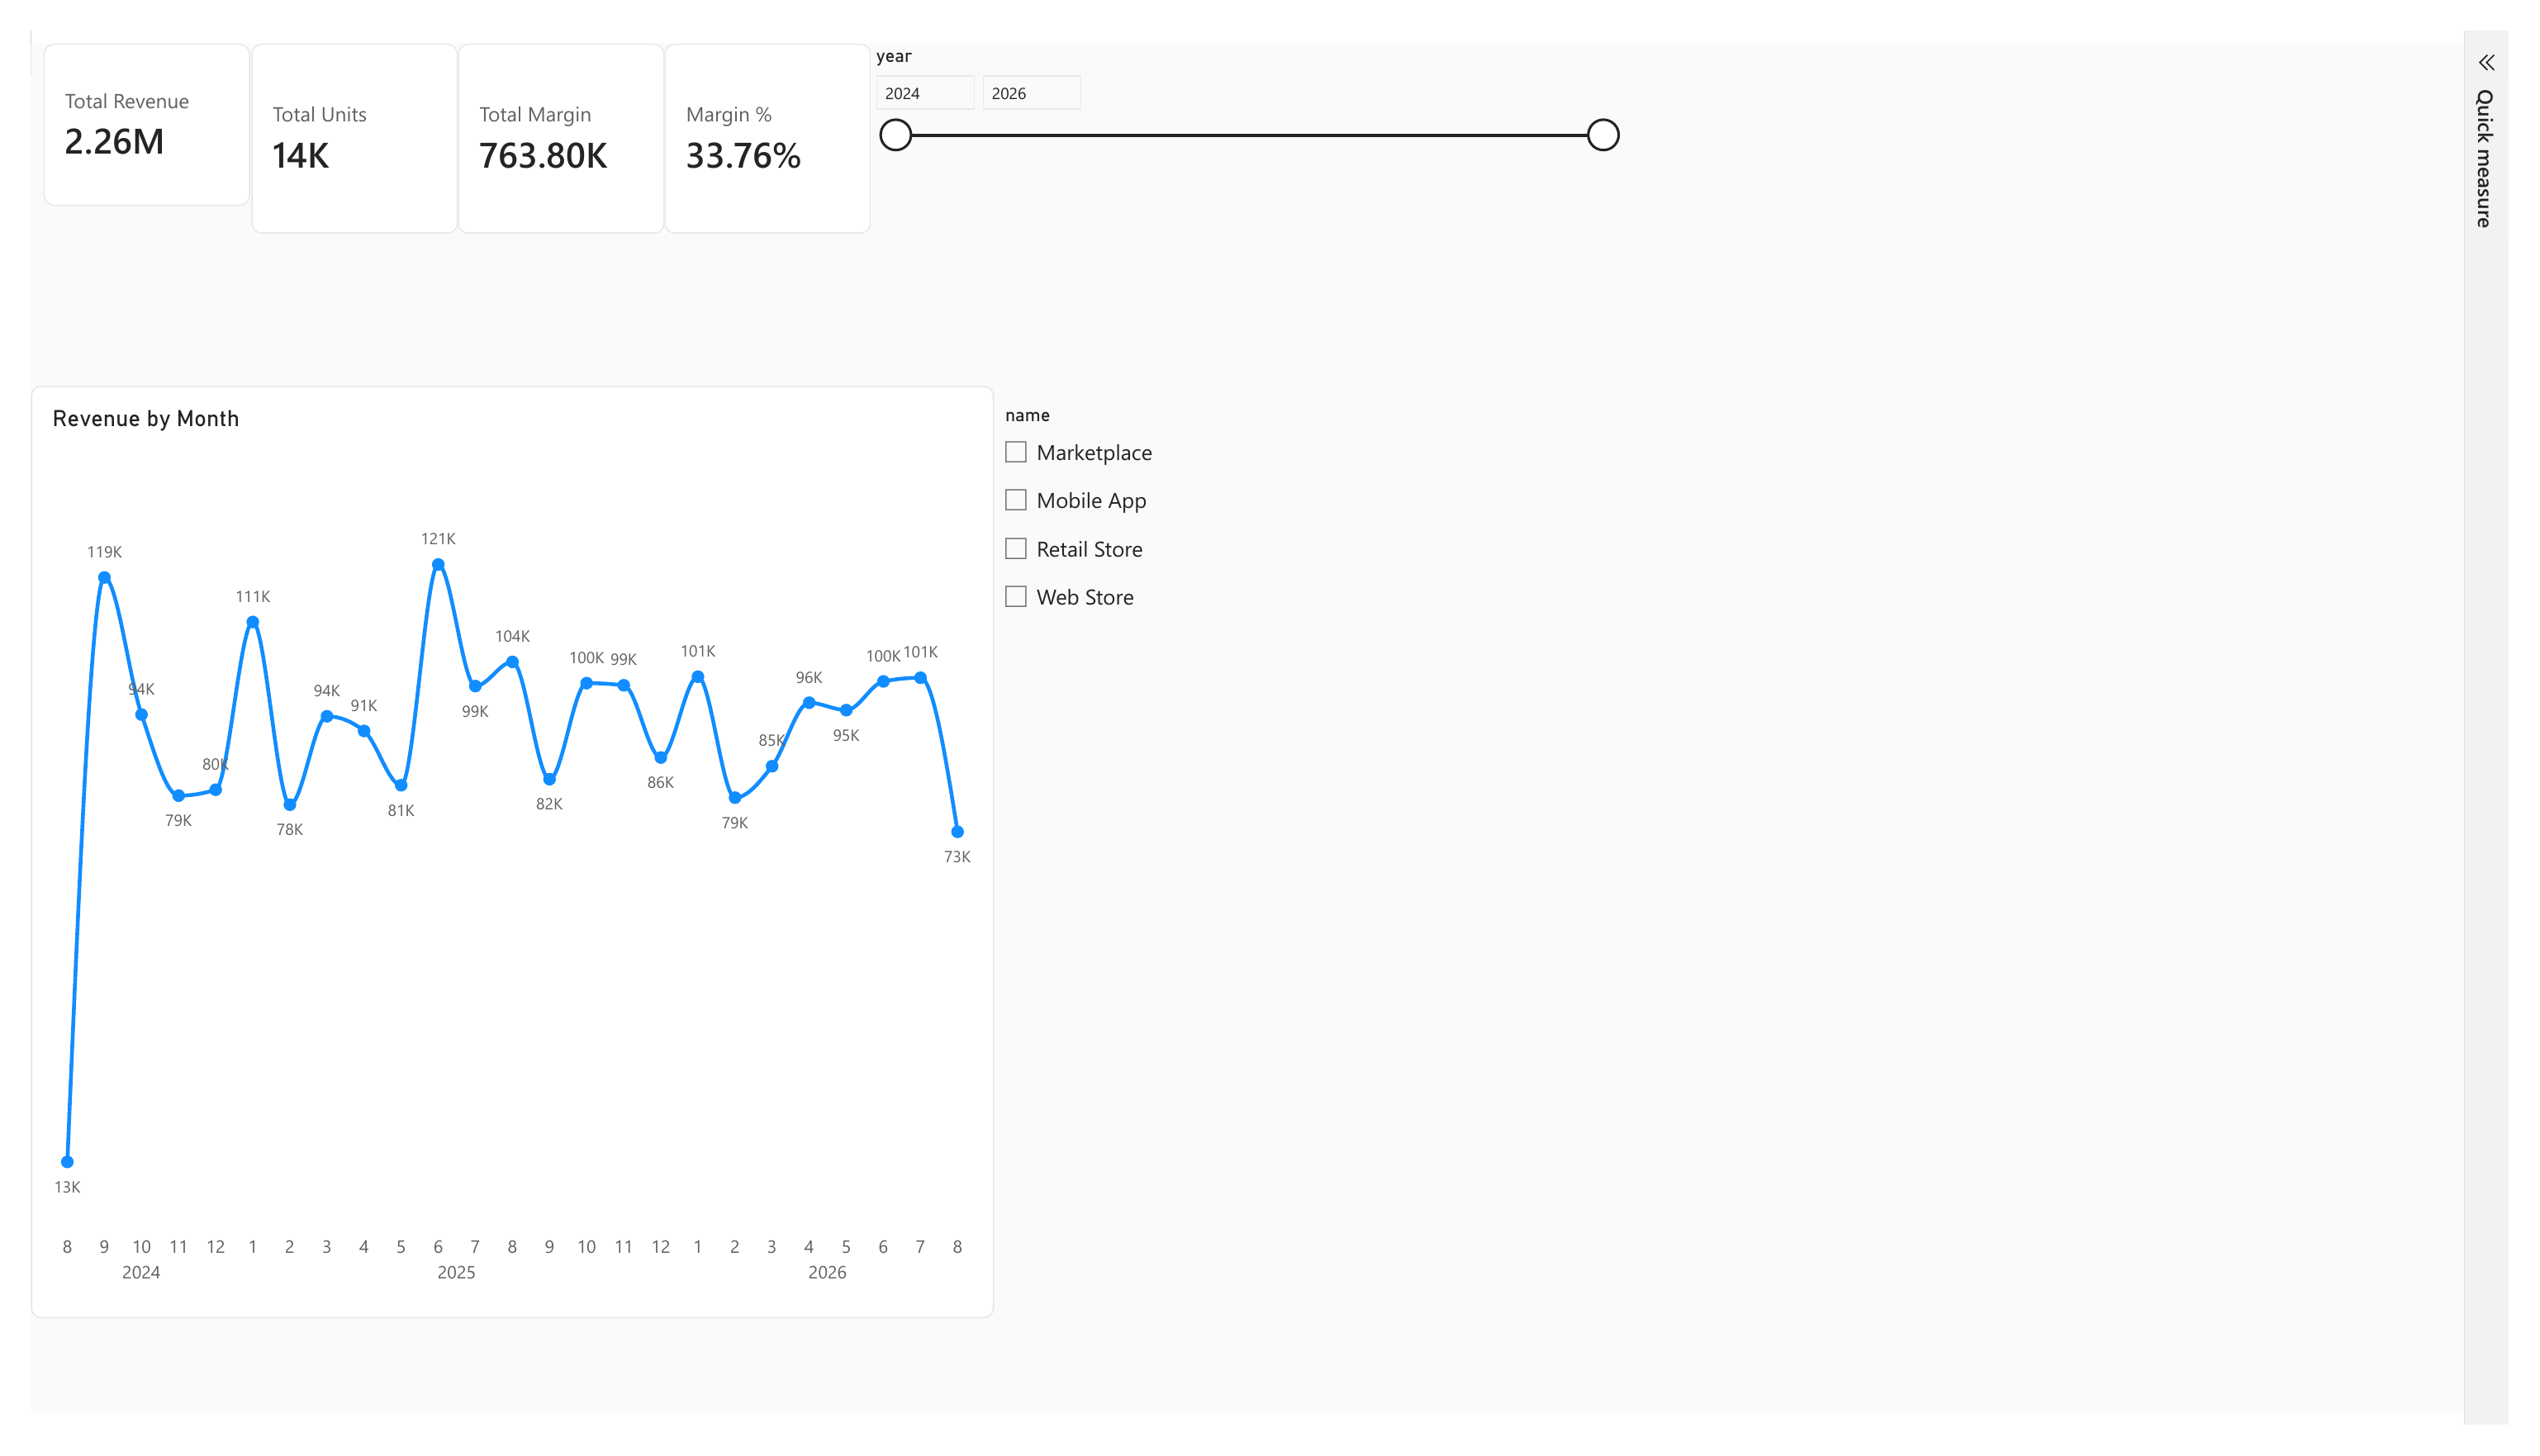

The dashboard page shown, as its layout file describes it:
{"tool":"powerbi","page":{"name":"Overview","canvas":[1920,1080],"ordinal":0},"visuals":[{"type":"cardVisual","fields":{"Data":["fact_sales.Total Revenue"]},"box":[10.4,0,163.2,128.5],"z":0},{"type":"cardVisual","fields":{"Data":["fact_sales.Total Margin"]},"box":[336.8,0,163,150],"z":1},{"type":"cardVisual","fields":{"Data":["fact_sales.Total Units"]},"box":[173.6,0,163,150],"z":2},{"type":"cardVisual","fields":{"Data":["fact_sales.Margin %"]},"box":[500,0,163,150],"z":3},{"type":"lineChart","title":"Revenue by Month","fields":{"Category":["dim_date.year","dim_date.month"],"Y":["Sum(fact_sales.net_amount)"]},"box":[0,270.4,760.4,736.1],"z":4},{"type":"slicer","fields":{"Values":["dim_date.year"]},"box":[659.3,1.9,598,256],"z":5},{"type":"slicer","fields":{"Values":["dim_channel.name"]},"box":[761.1,285.2,598,256],"z":6}]}

Visuals, with their boxes on the page's 1920x1080 design canvas (x1, y1, x2, y2). These are canvas units, not pixel positions in the 2540x1456 screenshot, which may show the page scaled, cropped or inside an application window:
cardVisual - fact_sales.Total Revenue: 10/0/174/128
cardVisual - fact_sales.Total Margin: 337/0/500/150
cardVisual - fact_sales.Total Units: 174/0/337/150
cardVisual - fact_sales.Margin %: 500/0/663/150
"Revenue by Month" lineChart: 0/270/760/1006
slicer - dim_date.year: 659/2/1257/258
slicer - dim_channel.name: 761/285/1359/541
